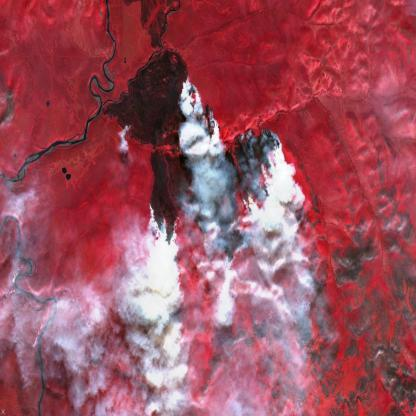fire: (112, 76, 290, 272)
